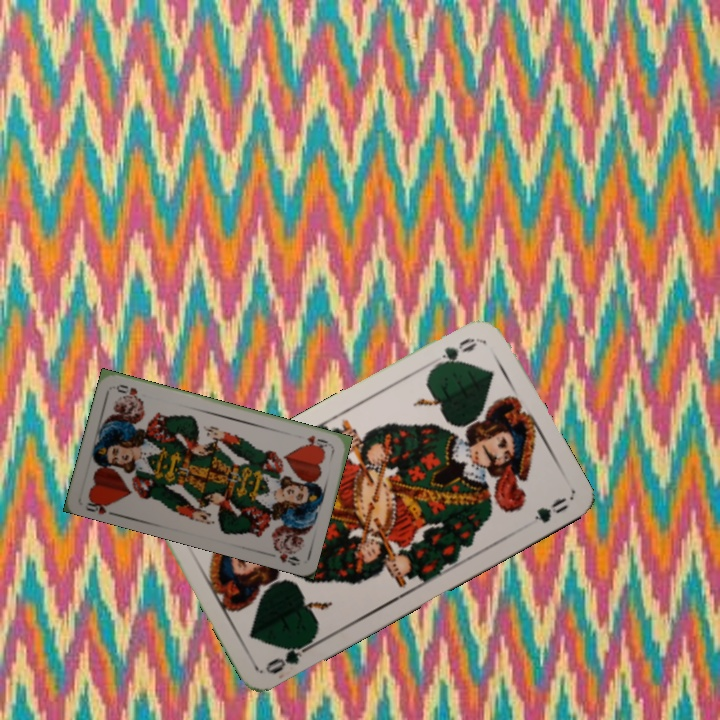GO: (262, 634, 318, 677), (428, 333, 480, 373)
HO: (81, 493, 119, 519), (302, 431, 330, 452)
